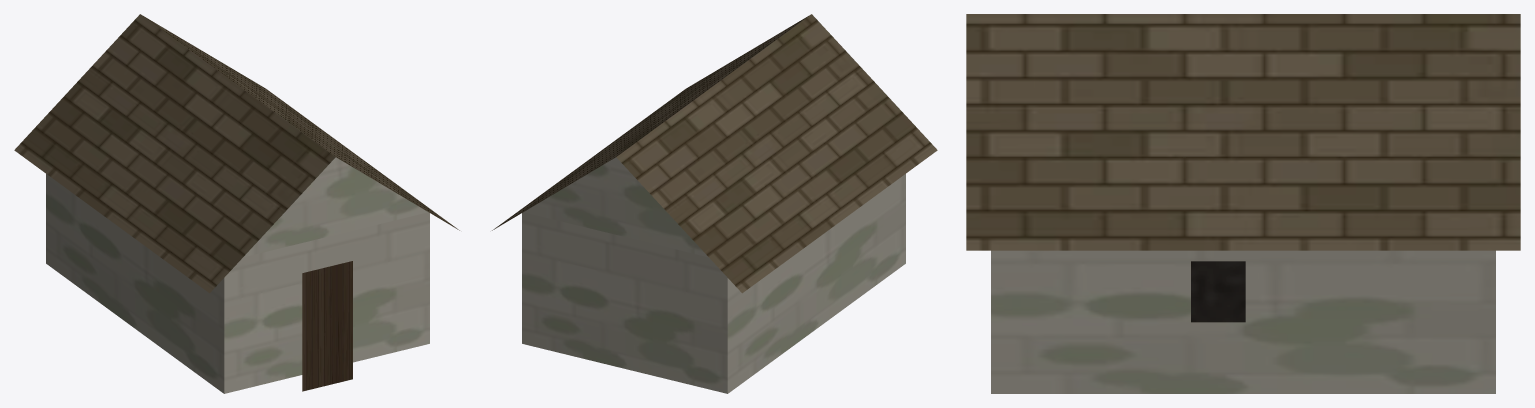
Rendered from ae_forest_stone_medium_block_lod2.glb.
3 renders of one model, left to right at view 1: azimuth 30°, elevation 25°; view 2: azimuth 150°, elevation 25°; view 3: azimuth 270°, elevation 25°, orthographic. The views are drawn at different scales.
Visible parts, largest first — view 1: ae_forest_stone_medium_block_lod2; view 2: ae_forest_stone_medium_block_lod2; view 3: ae_forest_stone_medium_block_lod2.
Boxes of the visible parts, x1,y1,x2,y2 form: ae_forest_stone_medium_block_lod2: [14, 14, 459, 393]; ae_forest_stone_medium_block_lod2: [492, 14, 937, 393]; ae_forest_stone_medium_block_lod2: [966, 14, 1520, 393].
Bounding box in the file's own units: 4.9 × 4.35 × 6.59.
Materials: 1 (1 with a texture image).
